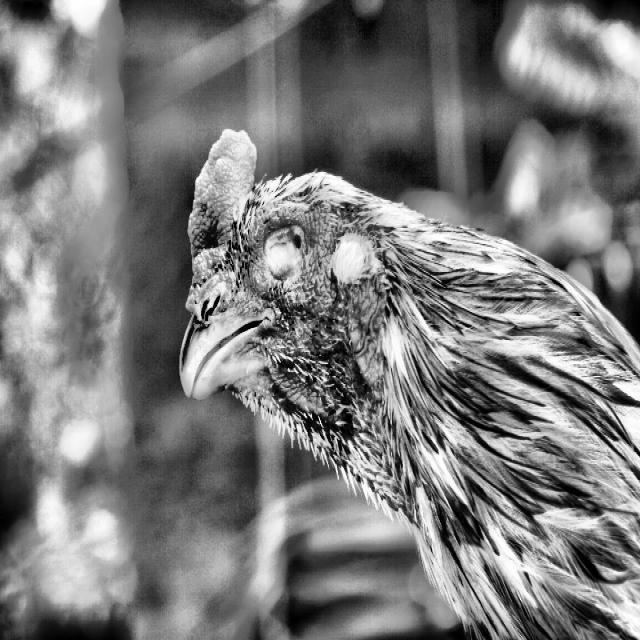Coryza: (147, 102, 455, 465)
